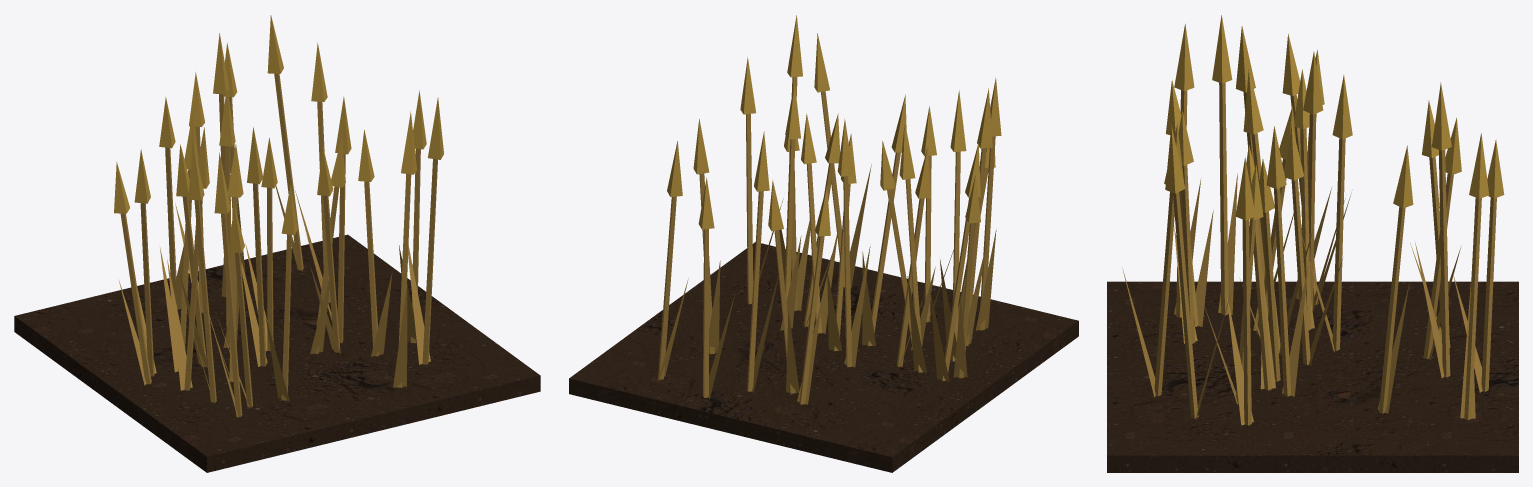
File: wheat_ripe_01.glb
3 renders of one model, left to right at view 1: azimuth 30°, elevation 25°; view 2: azimuth 150°, elevation 25°; view 3: azimuth 270°, elevation 25°, orthographic. The views are drawn at different scales.
Visible parts, largest first — view 1: wheat_ripe_01; view 2: wheat_ripe_01; view 3: wheat_ripe_01.
Boxes of the visible parts, x1=… form: wheat_ripe_01: x1=14, y1=15, x2=540, y2=472; wheat_ripe_01: x1=569, y1=15, x2=1078, y2=472; wheat_ripe_01: x1=1107, y1=15, x2=1518, y2=472.
Size of the model in its own units: 1.3 by 1.08 by 1.3.
3 materials, 3 textured.
